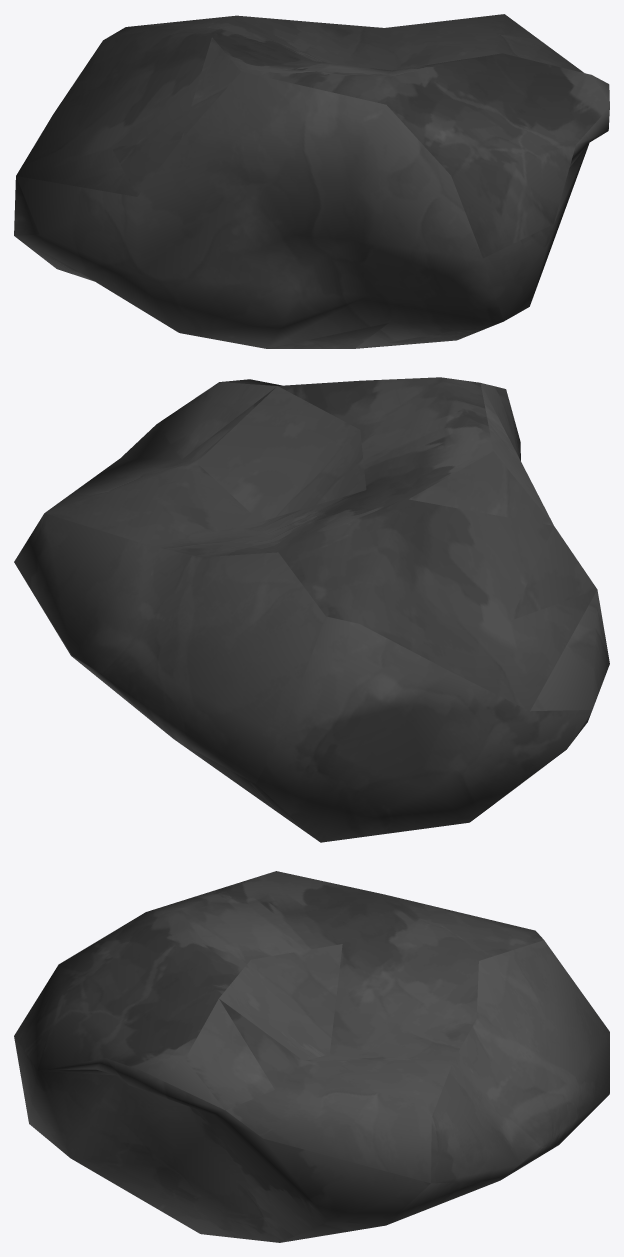
File: rock2.fbx
3 renders of one model, top to bottom at view 1: azimuth 30°, elevation 25°; view 2: azimuth 150°, elevation 25°; view 3: azimuth 270°, elevation 25°, orthographic. The views are drawn at different scales.
Parts seen in each view (by area): view 1: rock2; view 2: rock2; view 3: rock2.
Boxes of the visible parts, x1,y1,x2,y2 form: rock2: (14, 14, 609, 348); rock2: (14, 377, 609, 842); rock2: (14, 871, 609, 1242).
Size of the model in its own units: 267 by 143 by 270.
